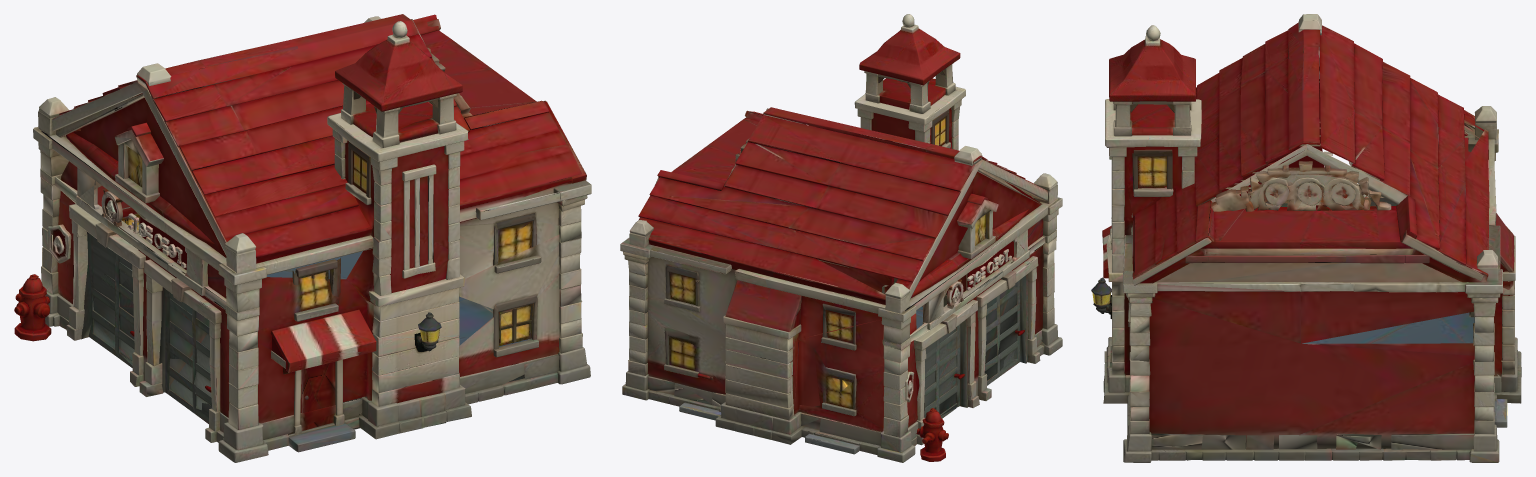
The model's file is fire_station.glb.
The picture shows the model from 3 angles, left to right: view 1: azimuth 30°, elevation 25°; view 2: azimuth 150°, elevation 25°; view 3: azimuth 270°, elevation 25°; orthographic projection. The views are drawn at different scales.
Visible parts, largest first — view 1: geometry_0; view 2: geometry_0; view 3: geometry_0.
Part boxes in pixels (bbox=[...]): geometry_0: bbox=[14, 14, 591, 462]; geometry_0: bbox=[620, 14, 1062, 462]; geometry_0: bbox=[1091, 14, 1521, 462].
Bounding box in the file's own units: 0.9346 × 0.8784 × 0.958.
1 material, 1 textured.
